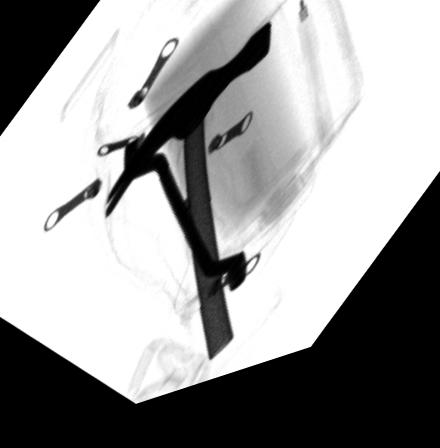Hammer: (99, 34, 271, 375)
Wrench: (121, 142, 244, 308)
